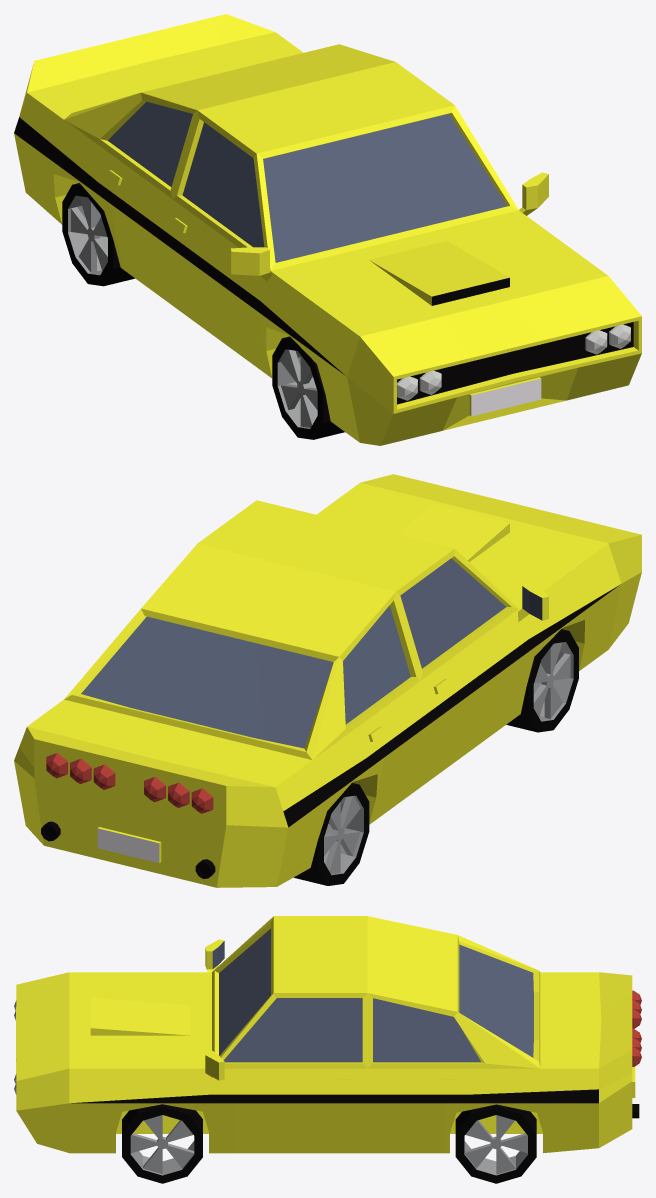
Rendered from muscle.glb.
3 views of the same model, one above another, from view 1: azimuth 30°, elevation 25°; view 2: azimuth 150°, elevation 25°; view 3: azimuth 270°, elevation 25° (orthographic). The views are drawn at different scales.
Visible parts, largest first — view 1: paint, glass, wheel_fr, wheel_rr, headlights; view 2: paint, glass, wheel_fr, wheel_rr, taillights; view 3: paint, glass, wheel_fl, wheel_rl, taillights.
Boxes of the visible parts, <box> form: paint: <box>14,14,641,445</box>; glass: <box>108,101,507,262</box>; wheel_fr: <box>272,336,344,439</box>; wheel_rr: <box>62,183,134,286</box>; headlights: <box>397,324,630,400</box>; paint: <box>14,474,641,887</box>; glass: <box>81,558,542,748</box>; wheel_fr: <box>506,629,578,732</box>; wheel_rr: <box>294,783,369,885</box>; taillights: <box>46,753,213,813</box>; paint: <box>16,916,639,1153</box>; glass: <box>212,928,533,1062</box>; wheel_fl: <box>122,1104,202,1183</box>; wheel_rl: <box>455,1104,536,1183</box>; taillights: <box>632,990,641,1066</box>.
Bounding box in the file's own units: 1.76 × 1.19 × 3.78.
